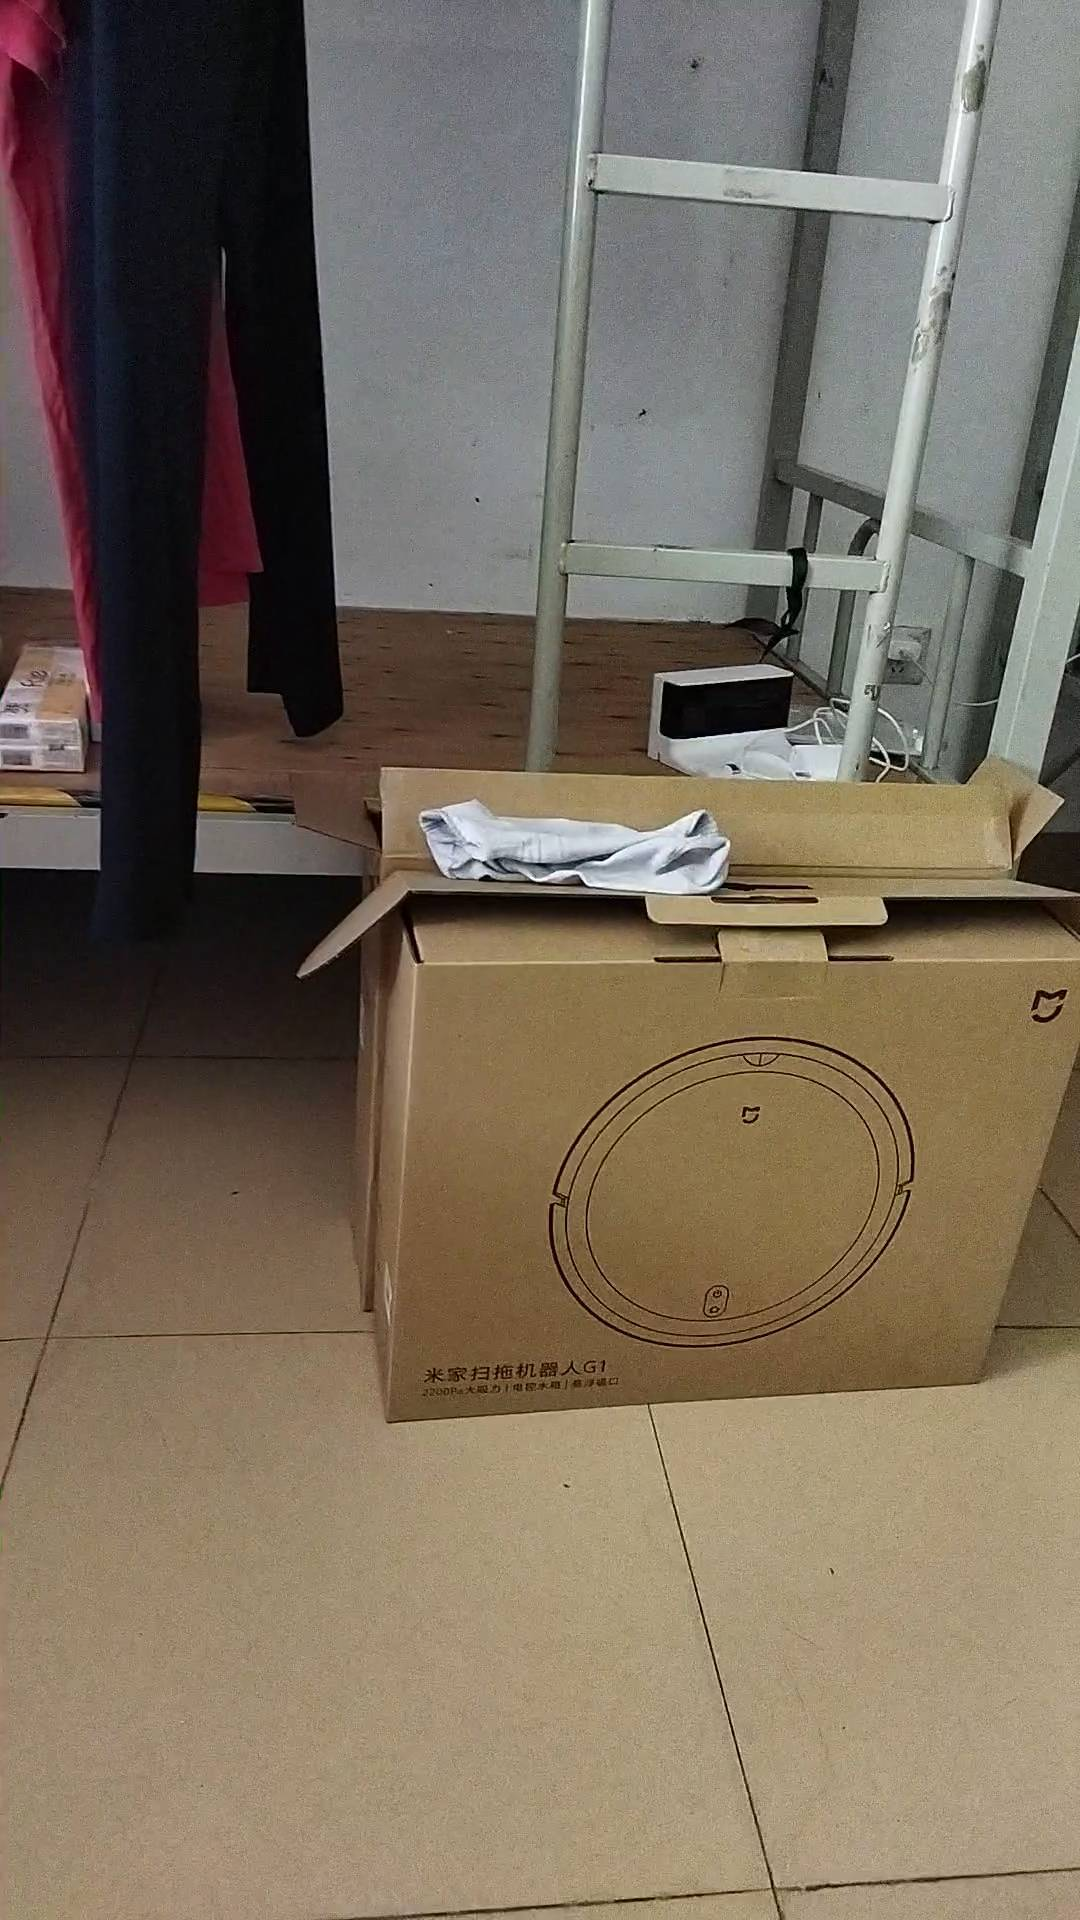recharge seat: (645, 663, 807, 781)
